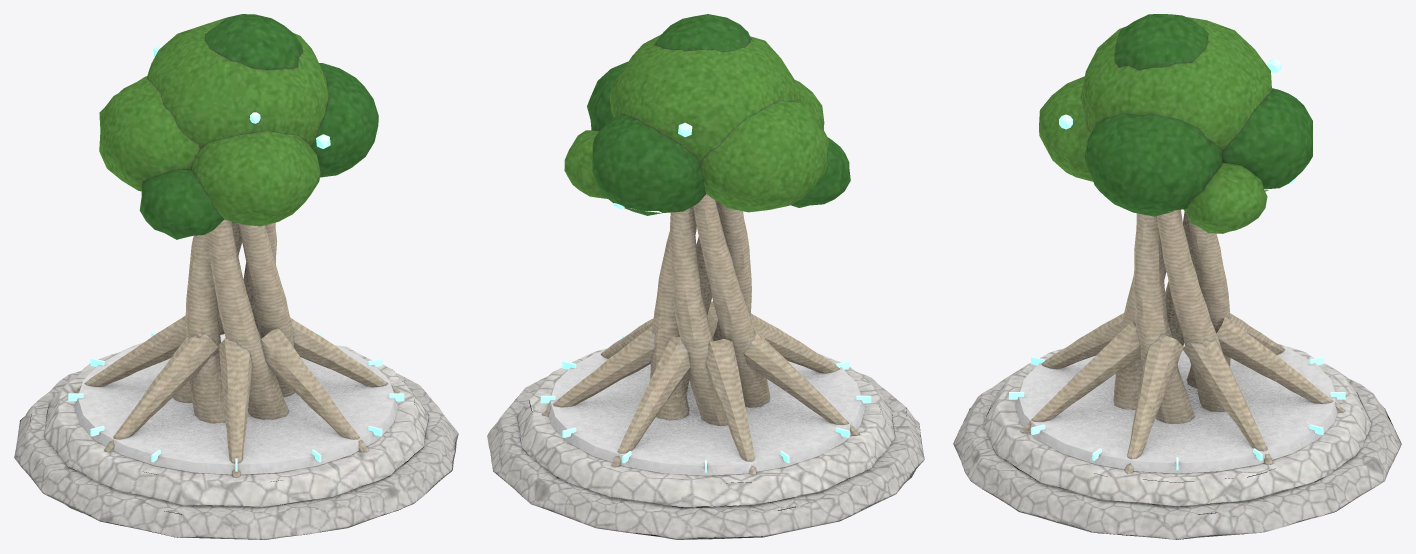
The model's file is throneshard_sunward.glb.
3 renders of one model, left to right at view 1: azimuth 30°, elevation 25°; view 2: azimuth 150°, elevation 25°; view 3: azimuth 270°, elevation 25°, orthographic.
Parts seen in each view (by area): view 1: body, glow; view 2: body, glow; view 3: body, glow.
Part boxes in pixels (x1,y1,x2,y2): body: [14, 14, 458, 539]; glow: [68, 45, 404, 471]; body: [487, 14, 924, 539]; glow: [540, 122, 871, 472]; body: [953, 14, 1401, 539]; glow: [1009, 58, 1345, 470].
Bounding box in the file's own units: 11.88 × 12.57 × 11.87.
2 materials, 1 textured.
